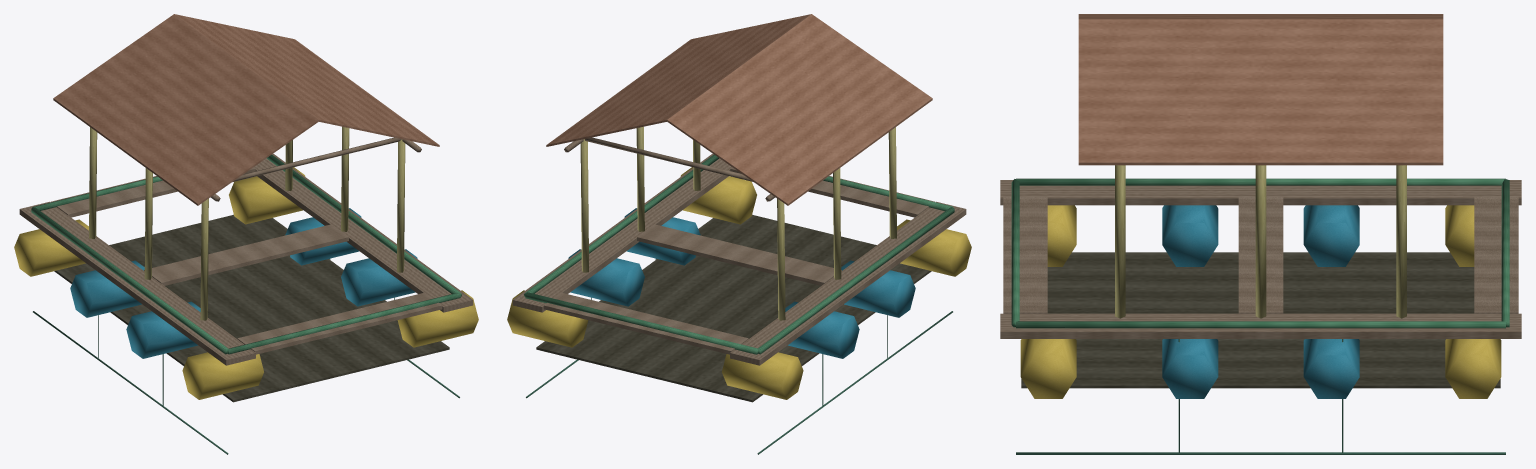
Rendered from bung-raft-0-rust-mid.glb.
3 views of the same model, side by side, from view 1: azimuth 30°, elevation 25°; view 2: azimuth 150°, elevation 25°; view 3: azimuth 270°, elevation 25° (orthographic). The views are drawn at different scales.
Visible parts, largest first — view 1: bung-raft-0-rust-mid; view 2: bung-raft-0-rust-mid; view 3: bung-raft-0-rust-mid.
Part boxes in pixels (bbox=[...]): bung-raft-0-rust-mid: bbox=[14, 14, 478, 454]; bung-raft-0-rust-mid: bbox=[507, 14, 971, 454]; bung-raft-0-rust-mid: bbox=[1000, 14, 1521, 454].
Bounding box in the file's own units: 4.14 × 4.17 × 5.4.
1 material, 1 textured.
